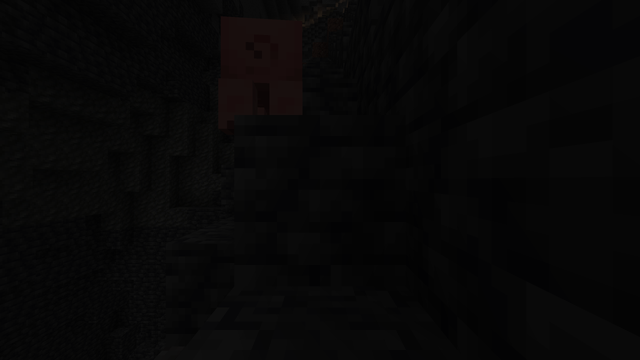cochons: (200, 19, 314, 143)
